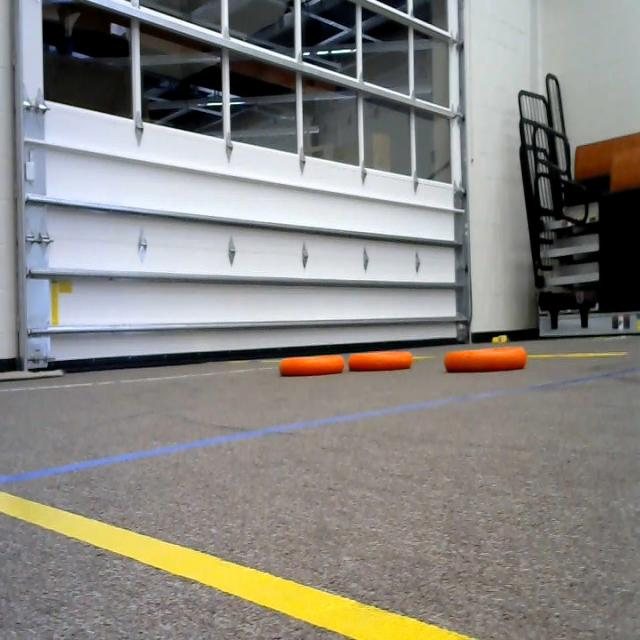note: (442, 338, 532, 378), (346, 341, 418, 381), (276, 348, 347, 384)
